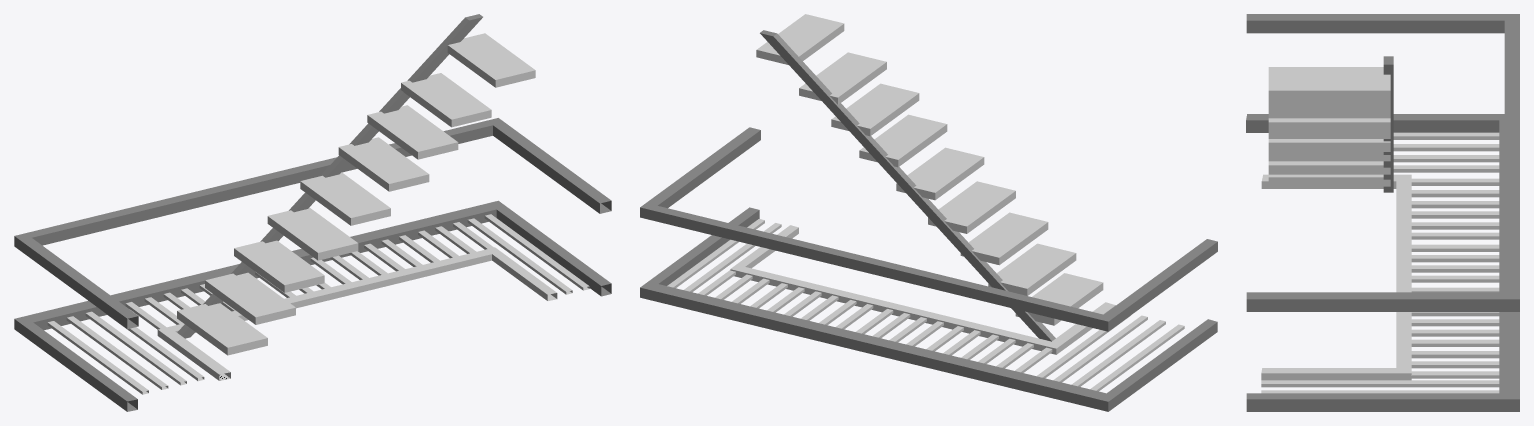
The model's file is fire_escape_A.FBX.
The picture shows the model from 3 angles, left to right: view 1: azimuth 30°, elevation 25°; view 2: azimuth 150°, elevation 25°; view 3: azimuth 270°, elevation 25°; orthographic projection. The views are drawn at different scales.
Visible parts, largest first — view 1: fire_escape_A; view 2: fire_escape_A; view 3: fire_escape_A.
Boxes of the visible parts, x1=… form: fire_escape_A: x1=14, y1=14, x2=611, y2=411; fire_escape_A: x1=640, y1=14, x2=1217, y2=411; fire_escape_A: x1=1246, y1=14, x2=1519, y2=411.
Size of the model in its own units: 248 by 124 by 101.
